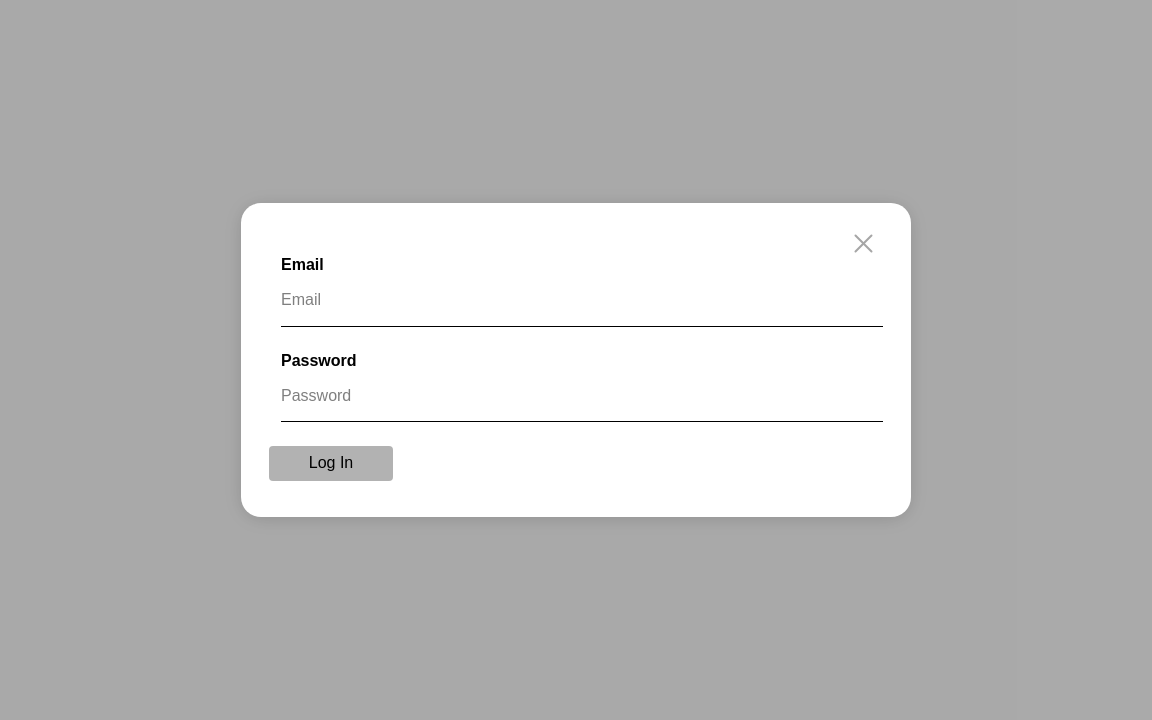
displays error message when login fails
The image size is (1152, 720).
In the field with placeholder "Email": (582, 301) [281, 275, 883, 327], type "test@test.com"
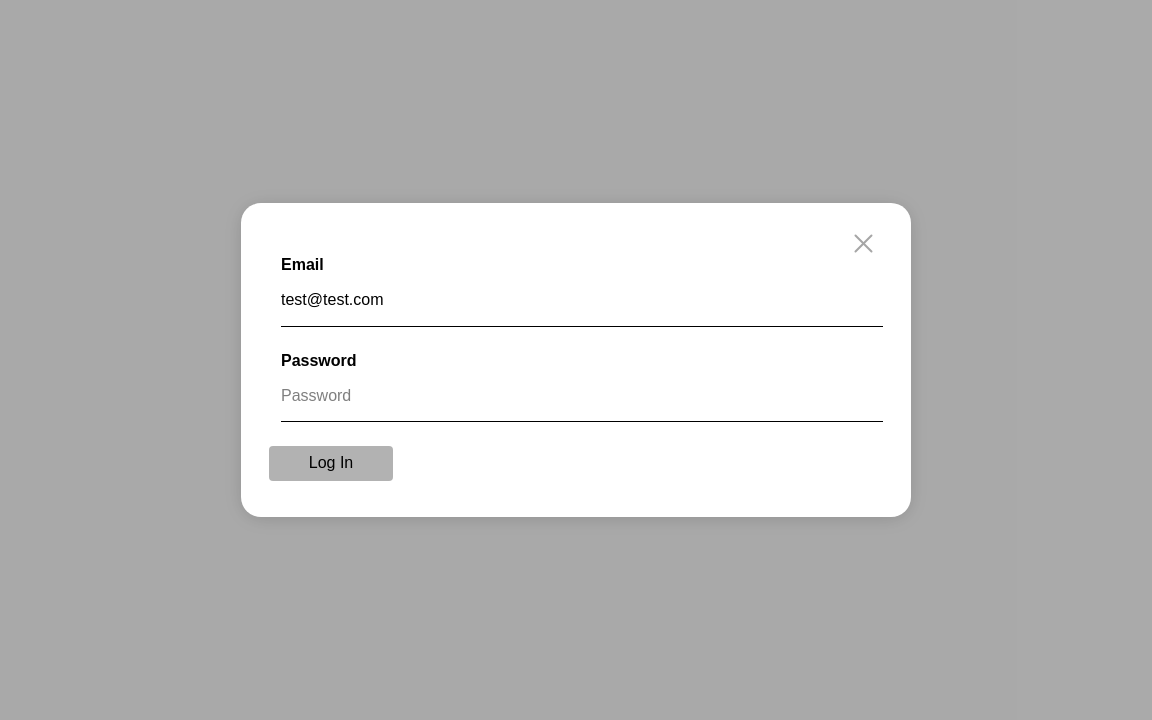
In the password field with placeholder "Password": (582, 396) [281, 371, 883, 422], type "securePassword123"
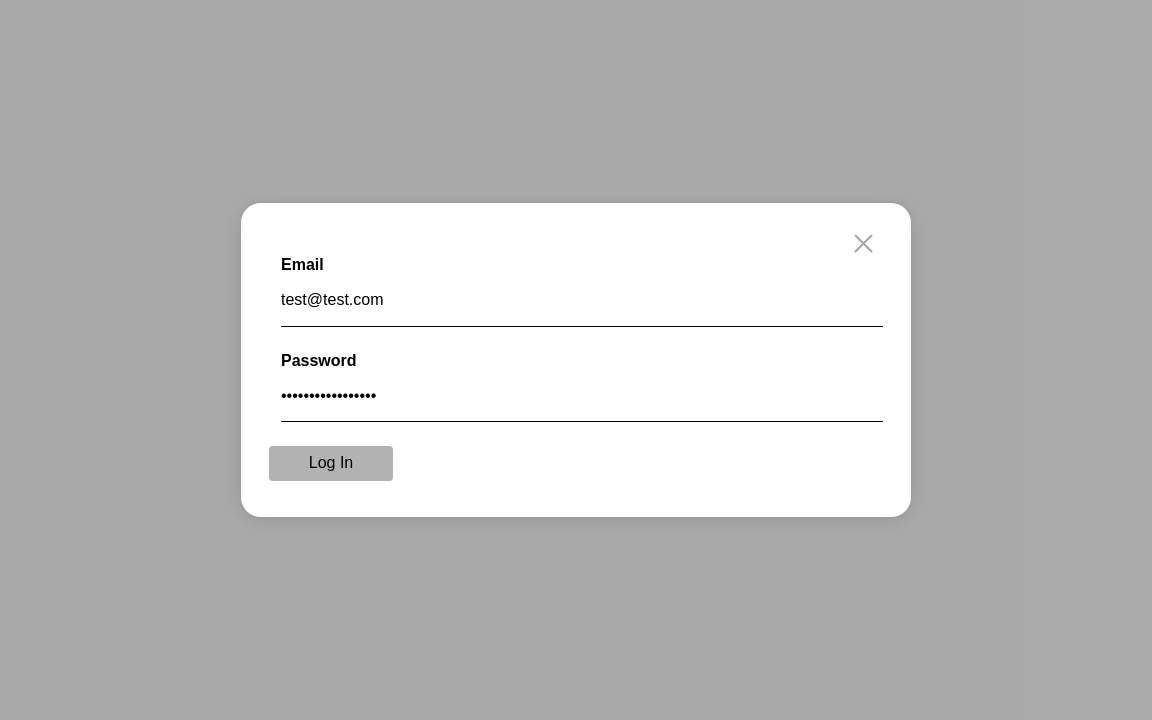
Click the button "Log In": (331, 463) [269, 446, 393, 481]
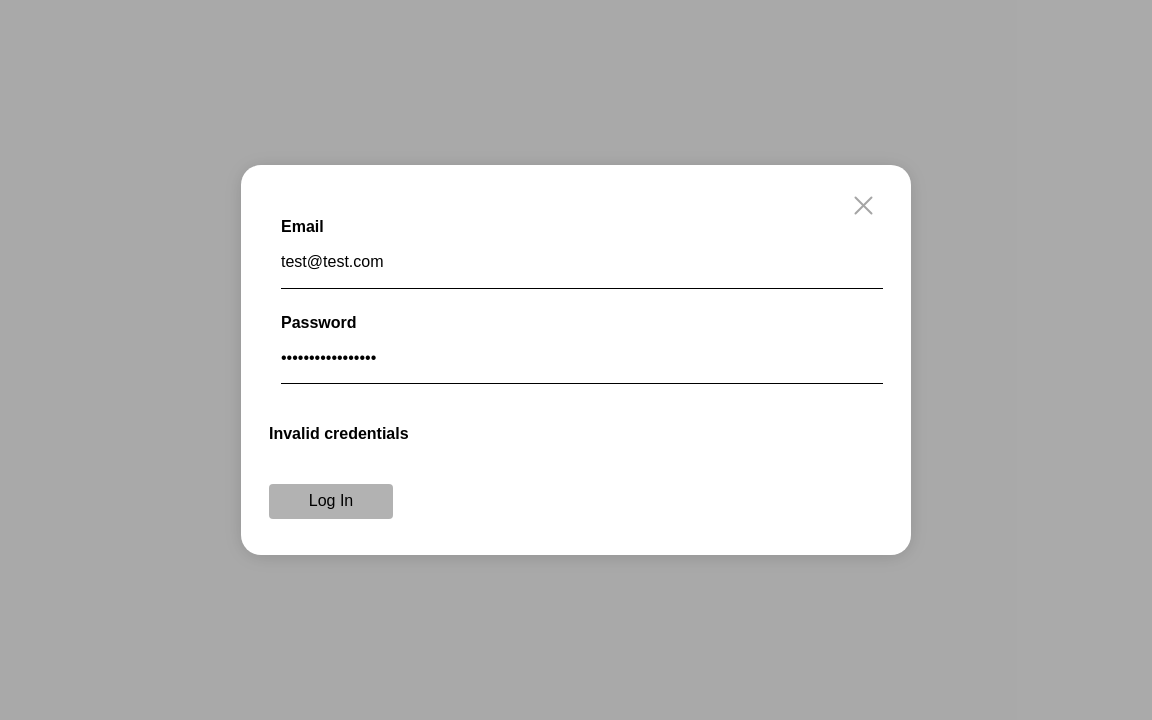
Expected: the text "Invalid credentials" is shown, [269, 425, 409, 442]
